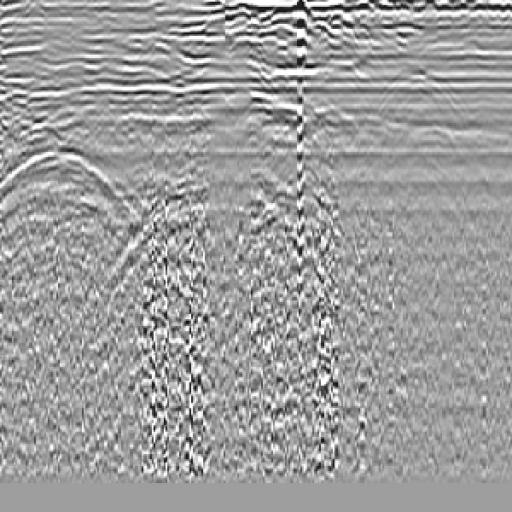metalic: (152, 66, 332, 298)
non-metallic: (1, 111, 167, 291)
